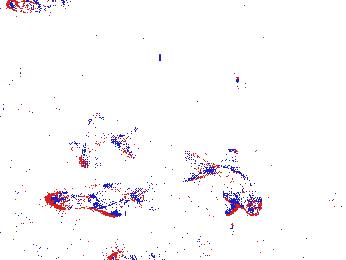X-ray fish: (66, 158, 116, 190)
red belly glassfish: (5, 1, 68, 15), (105, 248, 156, 260)
redtail glassfish: (192, 157, 262, 218), (46, 181, 151, 213), (79, 118, 136, 155)
